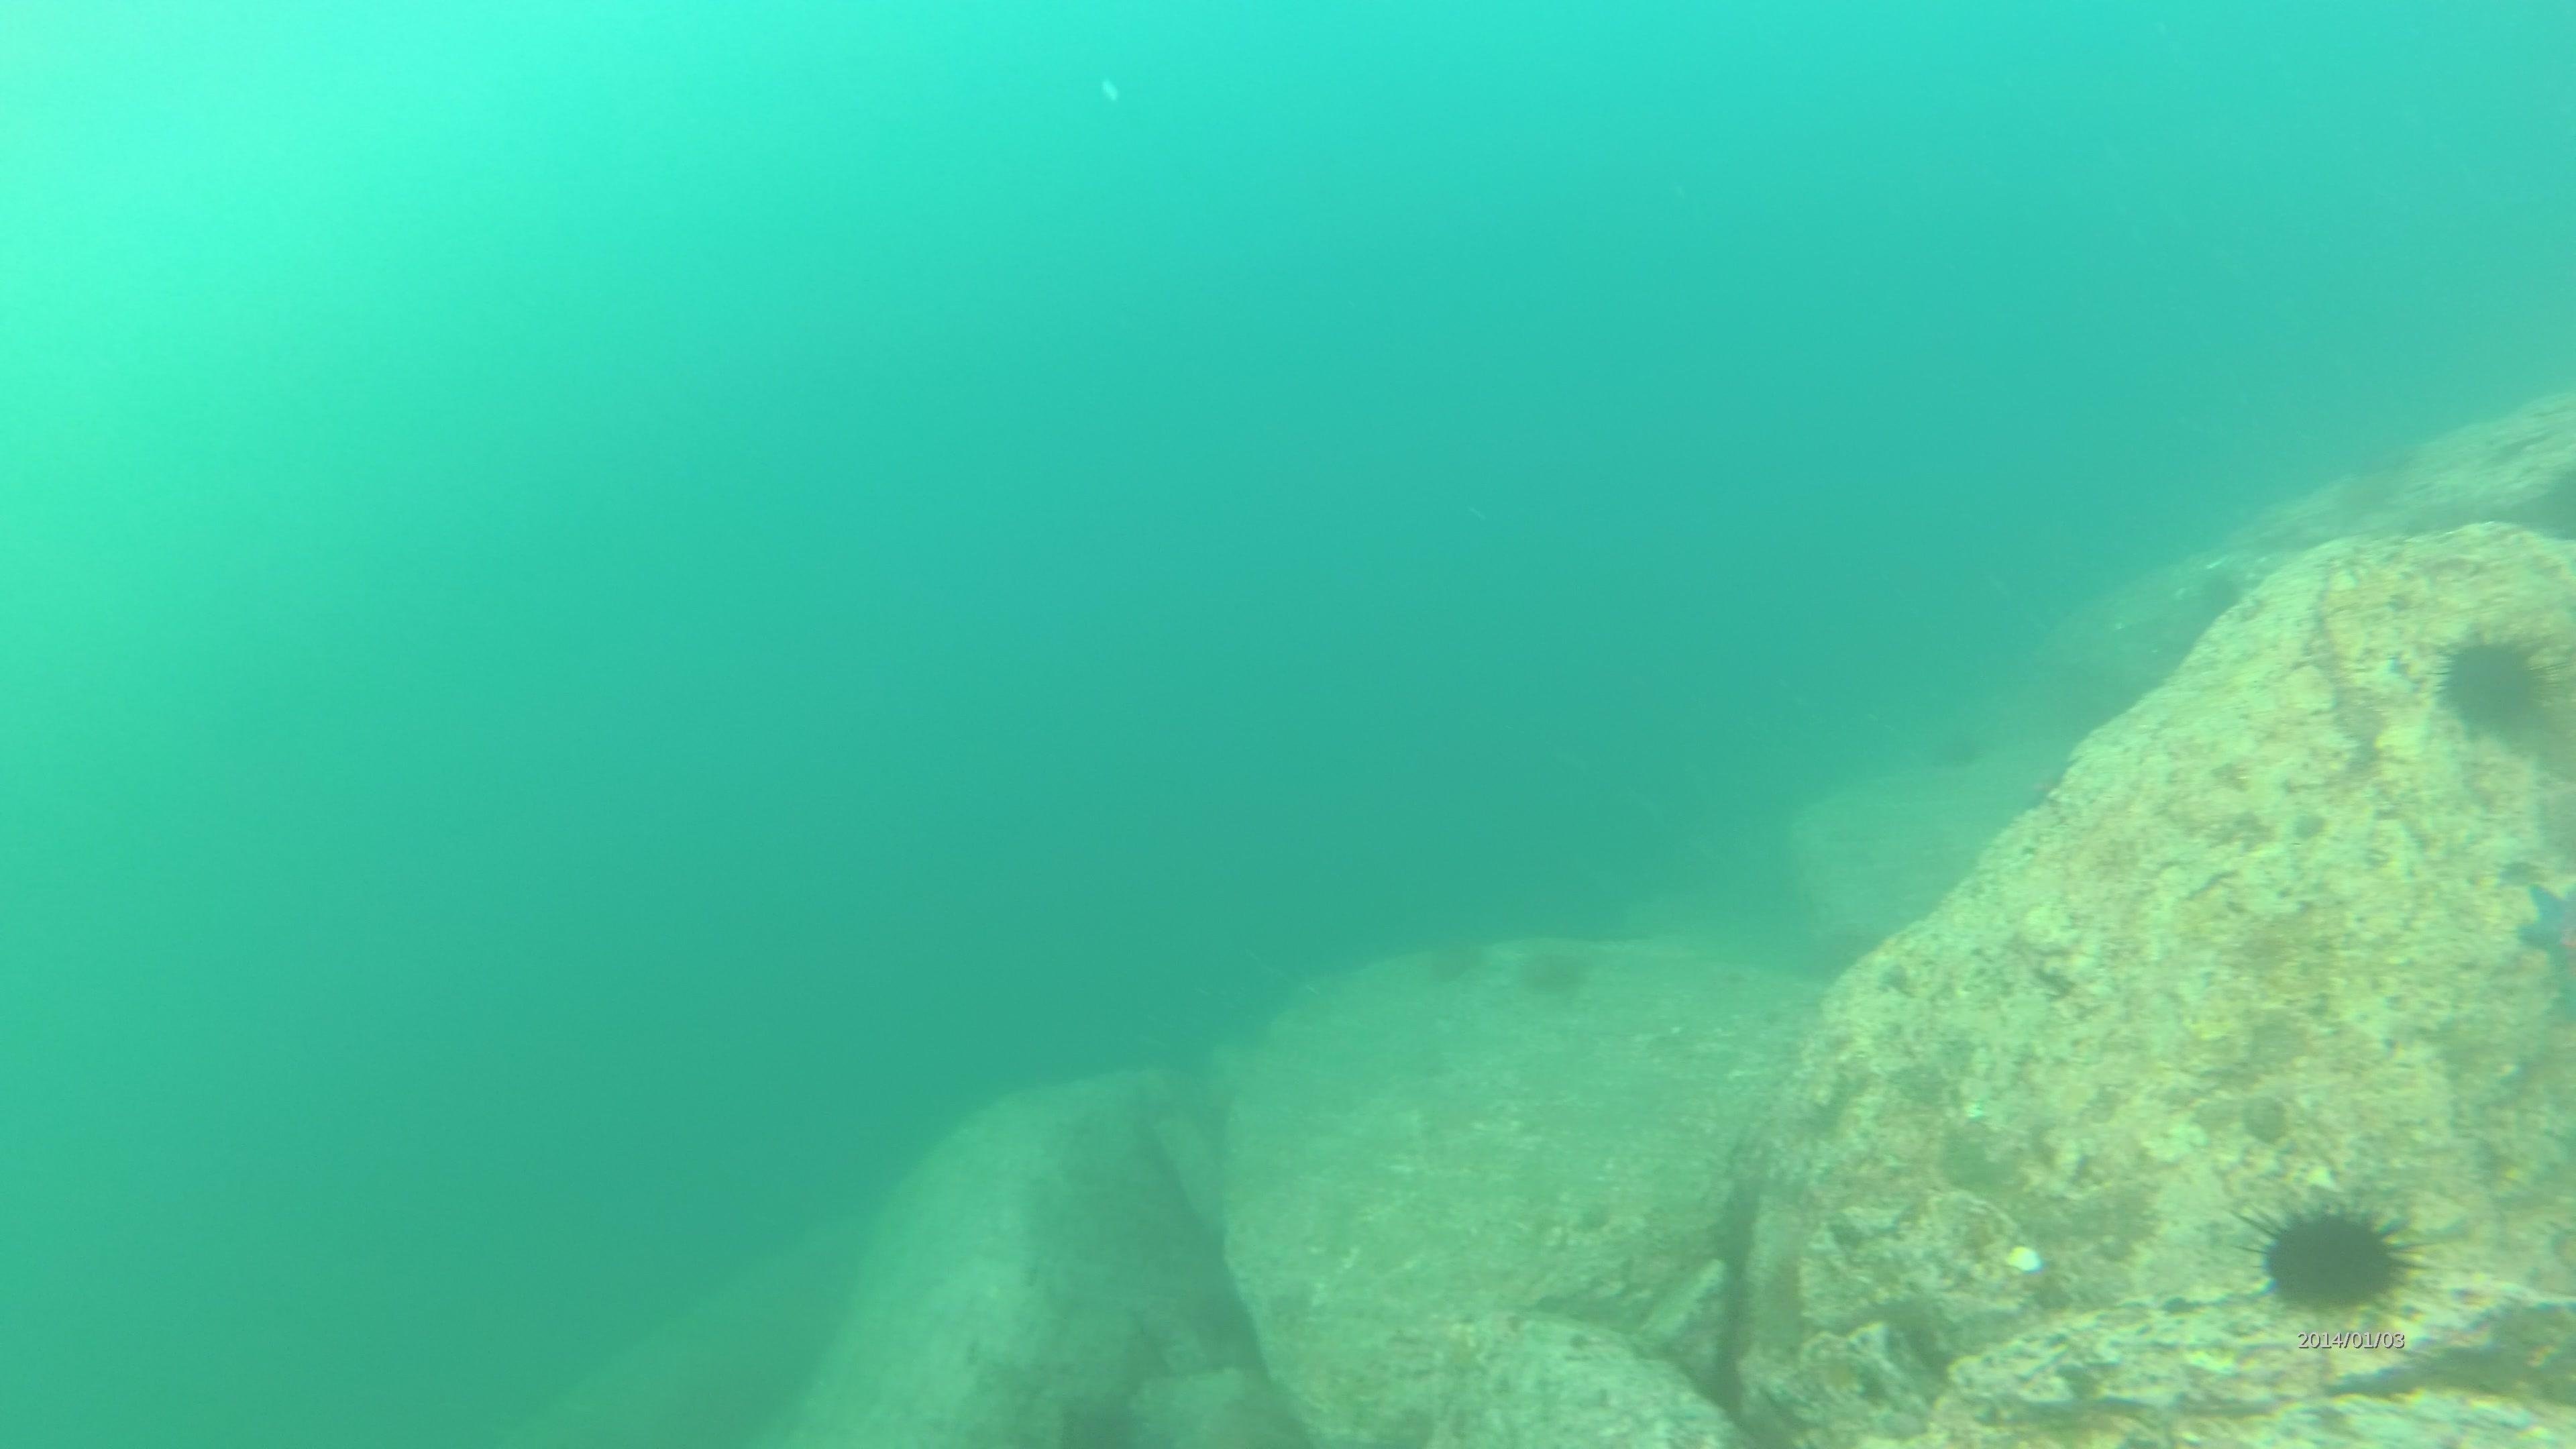echinus: (2249, 1192, 2422, 1323), (2431, 621, 2557, 743), (1415, 911, 1491, 989), (1516, 934, 1596, 1005)
starfish: (2509, 870, 2576, 993)
